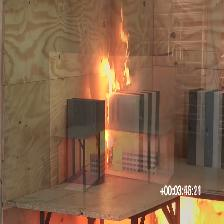fire: (99, 9, 131, 94)
